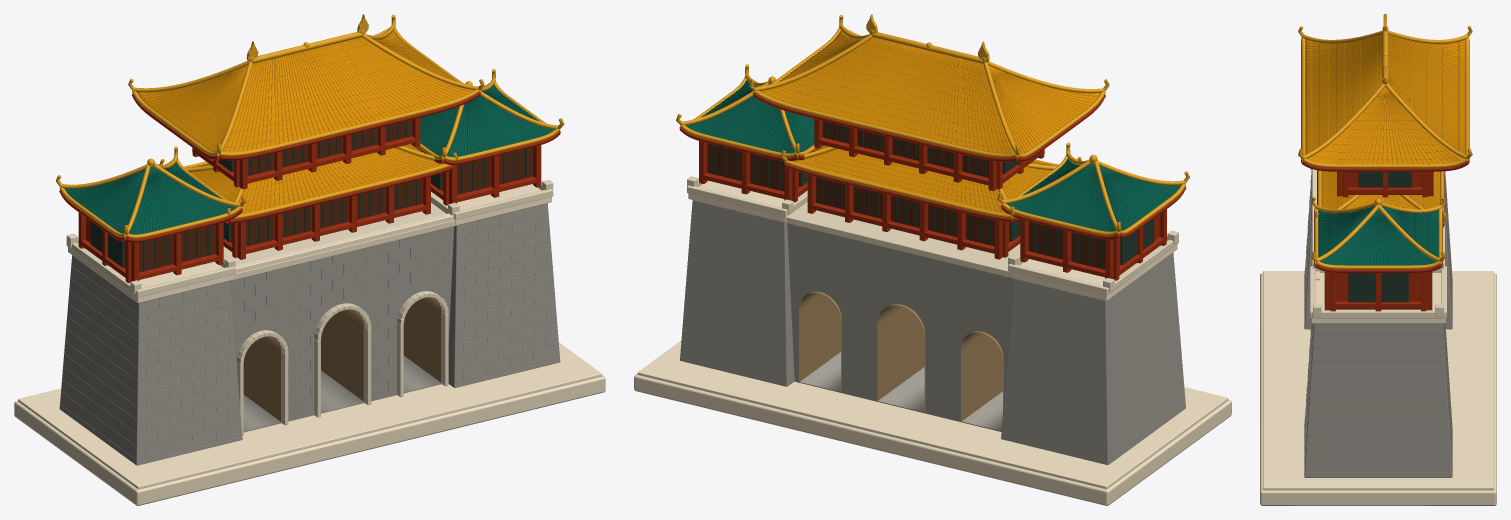
File: hue.glb
3 views of the same model, side by side, from view 1: azimuth 30°, elevation 25°; view 2: azimuth 150°, elevation 25°; view 3: azimuth 270°, elevation 25° (orthographic). The views are drawn at different scales.
Parts seen in each view (by area): view 1: THAP_NUOC_HUE_V2; view 2: THAP_NUOC_HUE_V2; view 3: THAP_NUOC_HUE_V2.
Boxes of the visible parts, x1,y1,x2,y2 form: THAP_NUOC_HUE_V2: (14,14,605,505); THAP_NUOC_HUE_V2: (634,14,1231,505); THAP_NUOC_HUE_V2: (1260,14,1496,505).
Bounding box in the file's own units: 1.42 × 1.08 × 0.6474.
